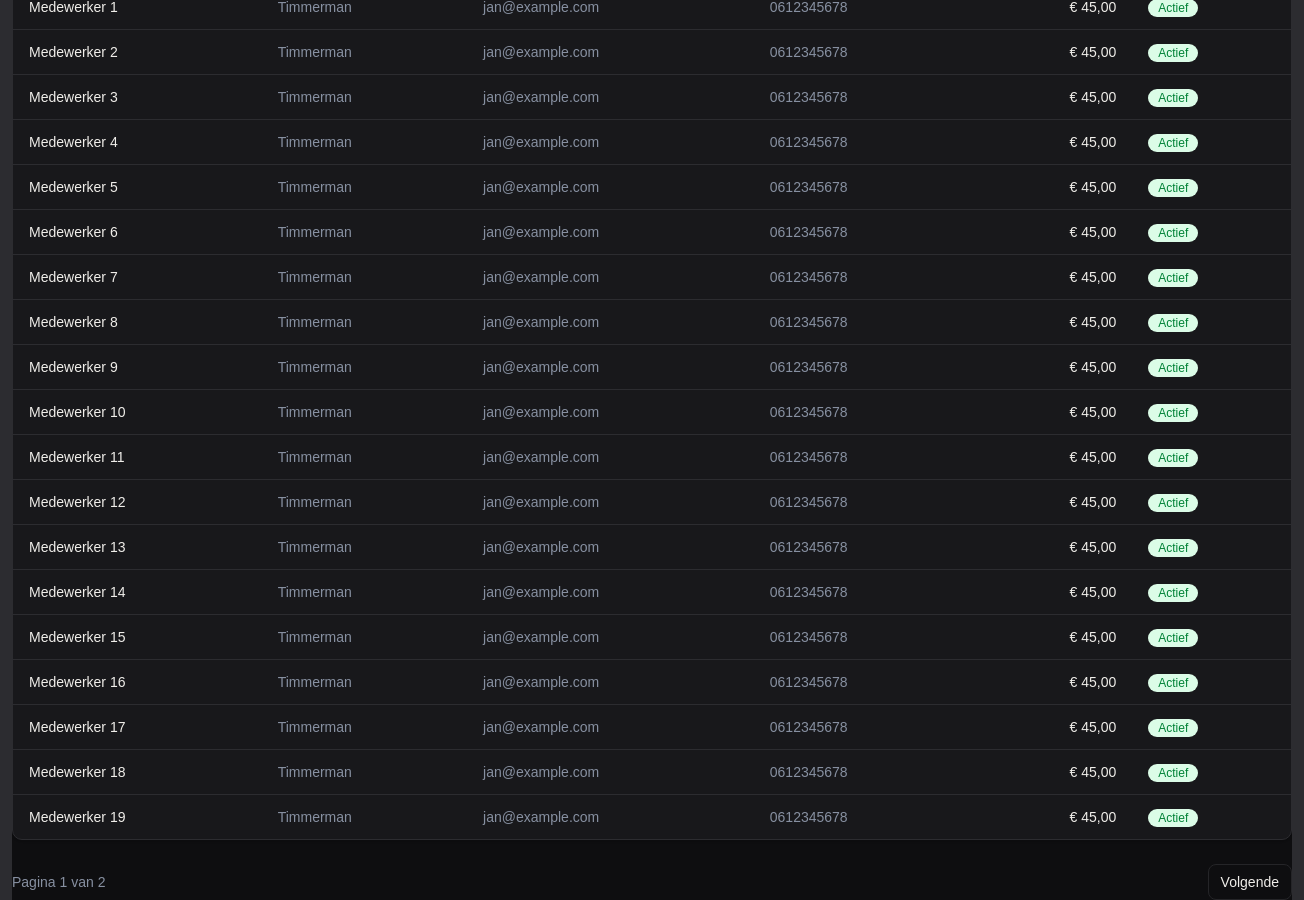
StaffDirectoryPage — pagination › shows previous page button after navigating to page 2
The image size is (1304, 900).
(page scrolled)
Click the button "Volgende".
click(1250, 882)  # box [1208, 864, 1292, 899]
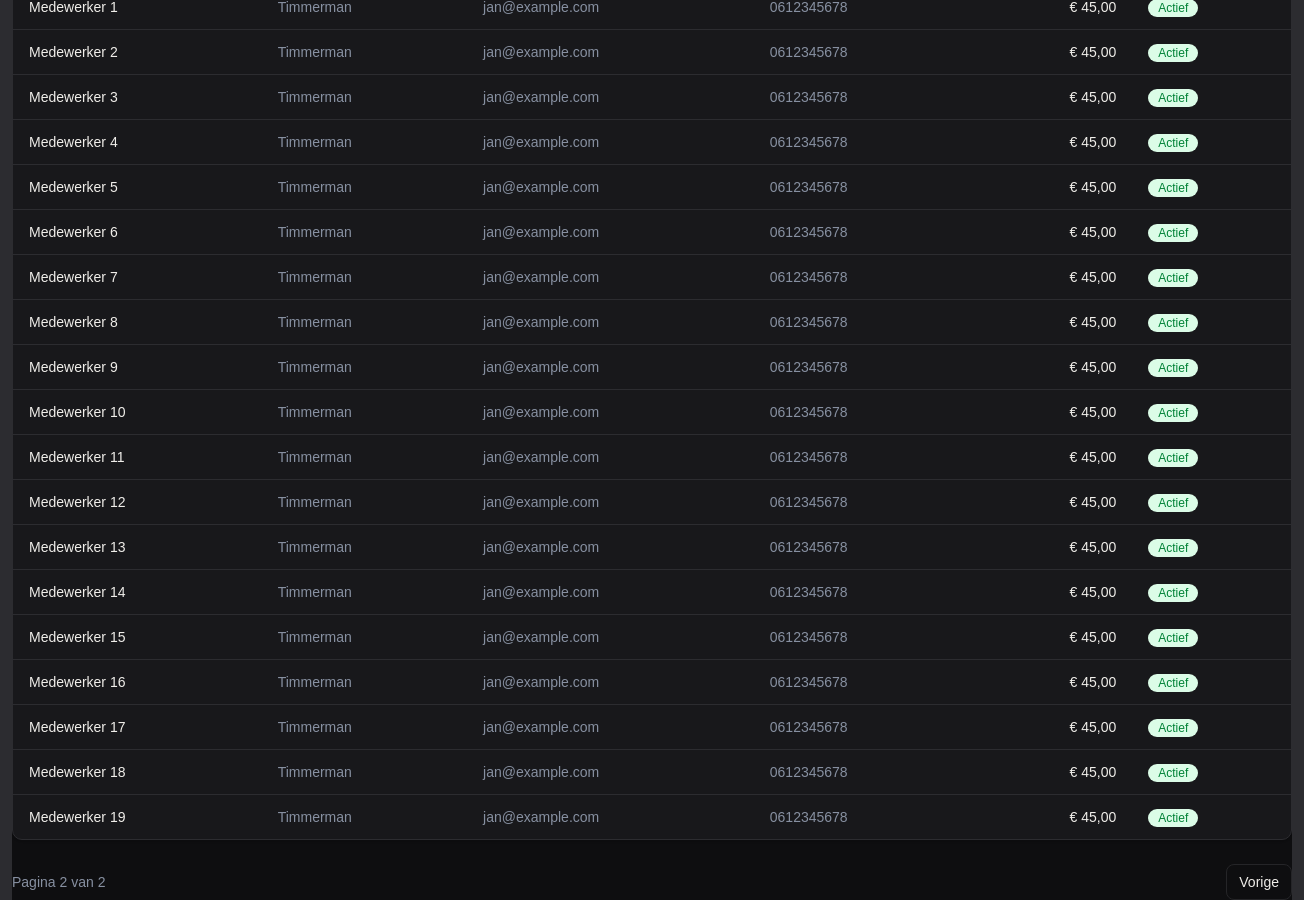
Now the button "Vorige" is shown, box [1226, 864, 1292, 899]
